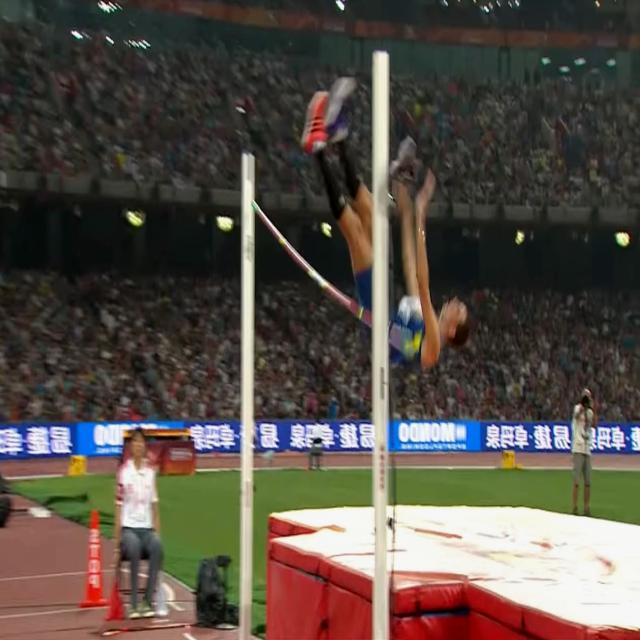land: (302, 78, 469, 364)
